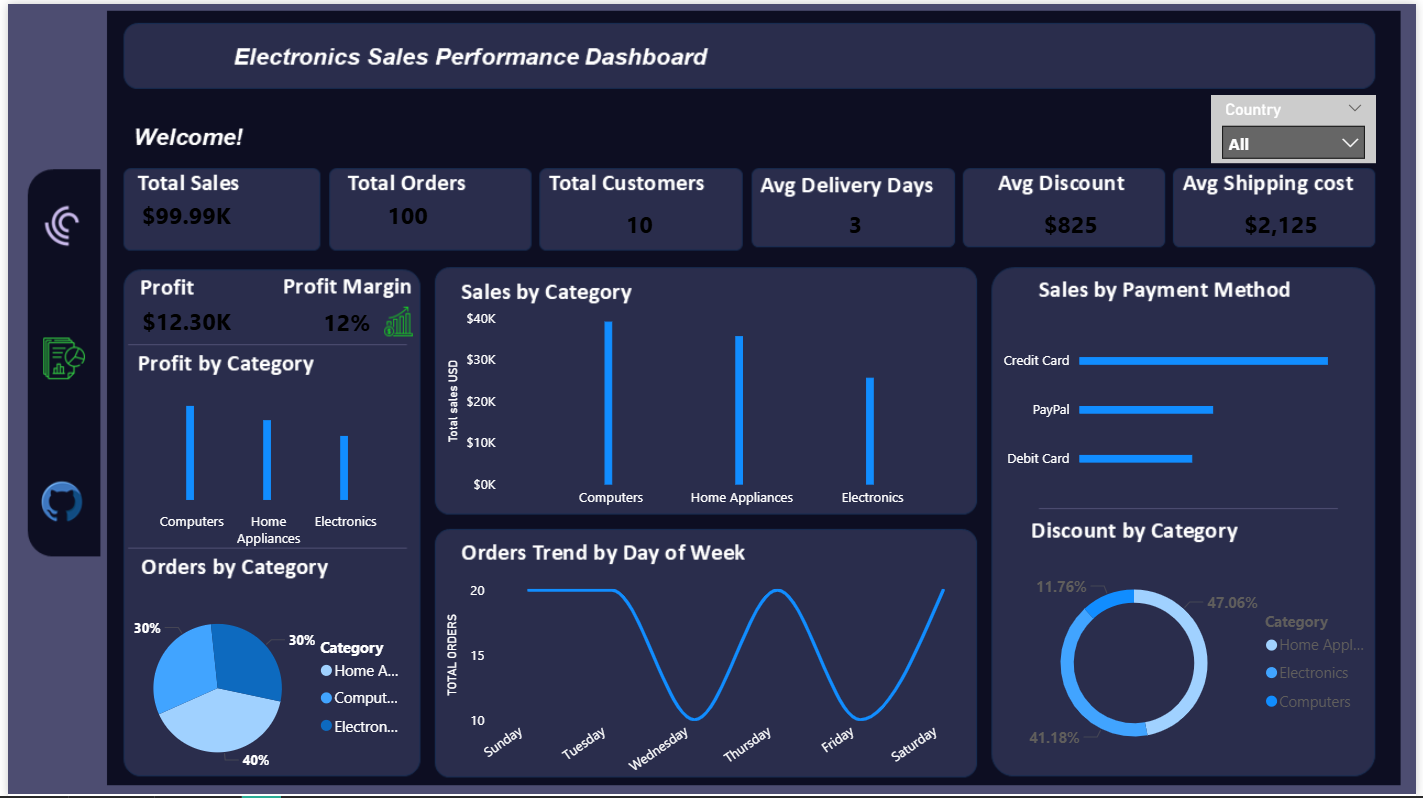

This screenshot's page, from the dashboard's own definition file:
{"tool":"powerbi","page":{"name":"Dashboard","canvas":[1280,720],"ordinal":0},"visuals":[{"type":"card","fields":{"Values":["Measures (2).TOTAL ORDERS"]},"box":[292,157,143,73],"z":0},{"type":"lineChart","title":"Orders Trend by day","fields":{"Category":["Date Table.Day Name"],"Y":["My Measues.TOTAL ORDERS"]},"box":[397,523,484,191],"z":1000},{"type":"card","fields":{"Values":["My Measues.Total sales USD"]},"box":[70.9,156.4,182.7,73.6],"z":2000},{"type":"clusteredColumnChart","title":"Sales by Category","fields":{"Category":["Electronic Sales.Category"],"Y":["My Measues.Total sales USD"]},"box":[398,275,484,187],"z":3000},{"type":"clusteredBarChart","title":"Sales by Payment Method","fields":{"Category":["Electronic Sales.PaymentMethod"],"Y":["My Measues.Total sales USD"]},"box":[899,275,345,179],"z":4000},{"type":"donutChart","title":"Discount by Category","fields":{"Category":["Electronic Sales.Category"],"Y":["Sum(Electronic Sales.Discount)"]},"box":[904,504,342,191],"z":5000},{"type":"card","fields":{"Values":["My Measues.TOTAL CUSTOMERS"]},"box":[488,165,172,73],"z":6000},{"type":"pieChart","title":"Orders by Category","fields":{"Y":["My Measues.TOTAL ORDERS"],"Category":["Electronic Sales.Category"]},"box":[96.1,523.4,268.4,196.6],"z":7000},{"type":"card","fields":{"Values":["My Measues.AVG DELIVERY DAYS"]},"box":[685,165,170,73],"z":8000},{"type":"card","fields":{"Values":["My Measues.AVG DISCOUNT"]},"box":[881,165,171,73],"z":9000},{"type":"card","fields":{"Values":["My Measues.AVG SHIPPING COST"]},"box":[1072,165,171,73],"z":10000},{"type":"card","fields":{"Values":["DAX Measues.Profit"]},"box":[105.9,253.2,112.2,73.6],"z":11000},{"type":"clusteredColumnChart","title":"Revenue by Category","fields":{"Category":["Electronic Sales.Category"],"Y":["DAX Measues.Profit"]},"box":[100,336,264,161],"z":12000},{"type":"slicer","fields":{"Values":["Electronic Sales.Country"]},"box":[1094,83,150,62],"z":13000},{"type":"actionButton","box":[22.1,290.4,62.5,74],"z":14000},{"type":"actionButton","box":[22.1,418.3,62.5,77.9],"z":15000},{"type":"actionButton","box":[22,165,63,74],"z":16000},{"type":"card","fields":{"Values":["DAX Measues.Profit Margin %"]},"box":[274.7,254.1,67.3,73.6],"z":17000}]}

Visuals, with their boxes on the page's 1280x720 design canvas (x1, y1, x2, y2). These are canvas units, not pixel positions in the 1423x798 screenshot, which may show the page scaled, cropped or inside an application window:
card - Measures (2).TOTAL ORDERS: [left=292, top=157, right=435, bottom=230]
"Orders Trend by day" lineChart: [left=397, top=523, right=881, bottom=714]
card - My Measues.Total sales USD: [left=71, top=156, right=254, bottom=230]
"Sales by Category" clusteredColumnChart: [left=398, top=275, right=882, bottom=462]
"Sales by Payment Method" clusteredBarChart: [left=899, top=275, right=1244, bottom=454]
"Discount by Category" donutChart: [left=904, top=504, right=1246, bottom=695]
card - My Measues.TOTAL CUSTOMERS: [left=488, top=165, right=660, bottom=238]
"Orders by Category" pieChart: [left=96, top=523, right=364, bottom=720]
card - My Measues.AVG DELIVERY DAYS: [left=685, top=165, right=855, bottom=238]
card - My Measues.AVG DISCOUNT: [left=881, top=165, right=1052, bottom=238]
card - My Measues.AVG SHIPPING COST: [left=1072, top=165, right=1243, bottom=238]
card - DAX Measues.Profit: [left=106, top=253, right=218, bottom=327]
"Revenue by Category" clusteredColumnChart: [left=100, top=336, right=364, bottom=497]
slicer - Electronic Sales.Country: [left=1094, top=83, right=1244, bottom=145]
actionButton: [left=22, top=290, right=85, bottom=364]
actionButton: [left=22, top=418, right=85, bottom=496]
actionButton: [left=22, top=165, right=85, bottom=239]
card - DAX Measues.Profit Margin %: [left=275, top=254, right=342, bottom=328]
